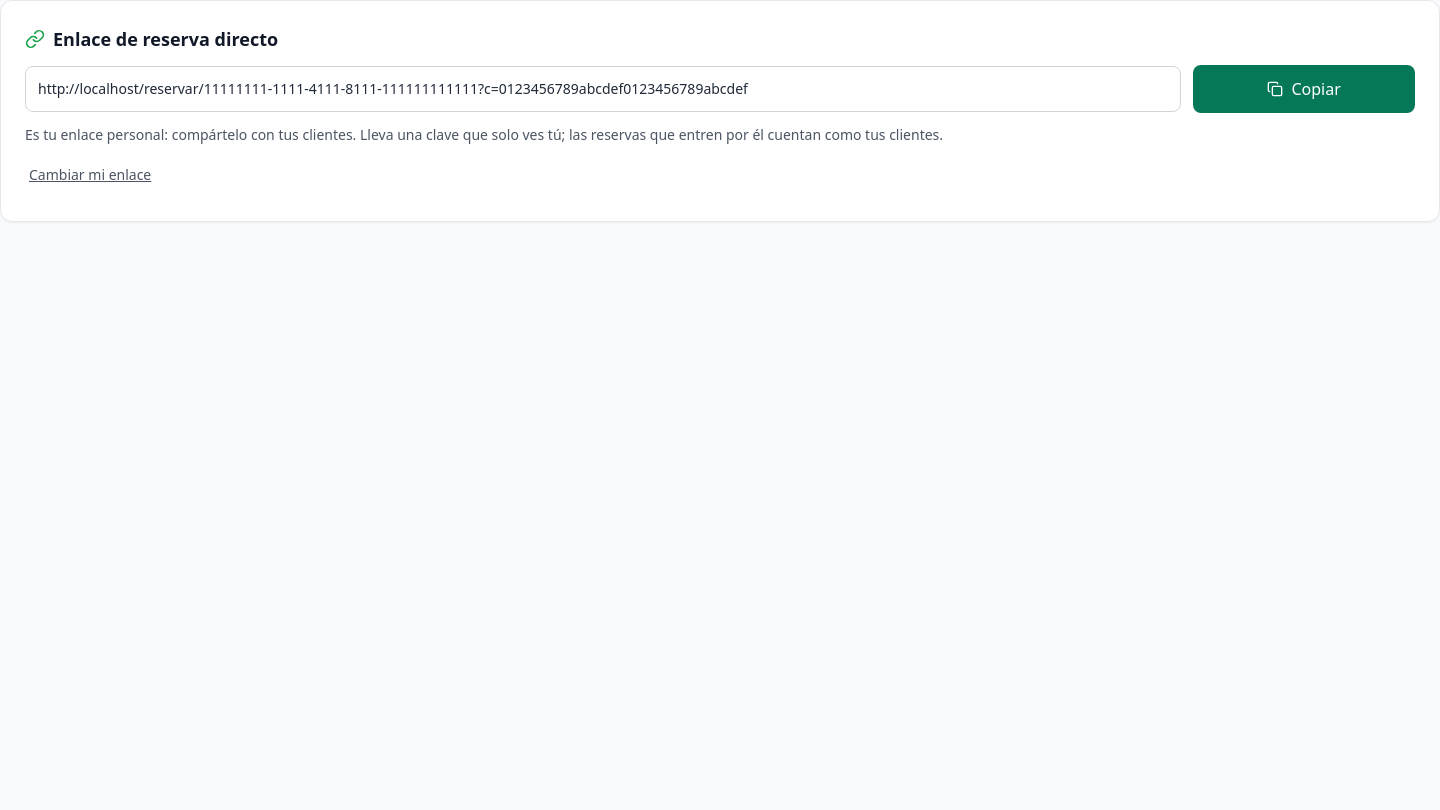
Scenario: BookingLinkCard › cambiar el enlace pide confirmación y deja claro que los anteriores dejan de servir
Later steps or results of the test are not shown.
Check: the field named "Tu enlace de reserva" is shown, box left=25, top=66, right=1181, bottom=112
Click the button "Cambiar mi enlace" at (90, 175), box left=25, top=153, right=155, bottom=197
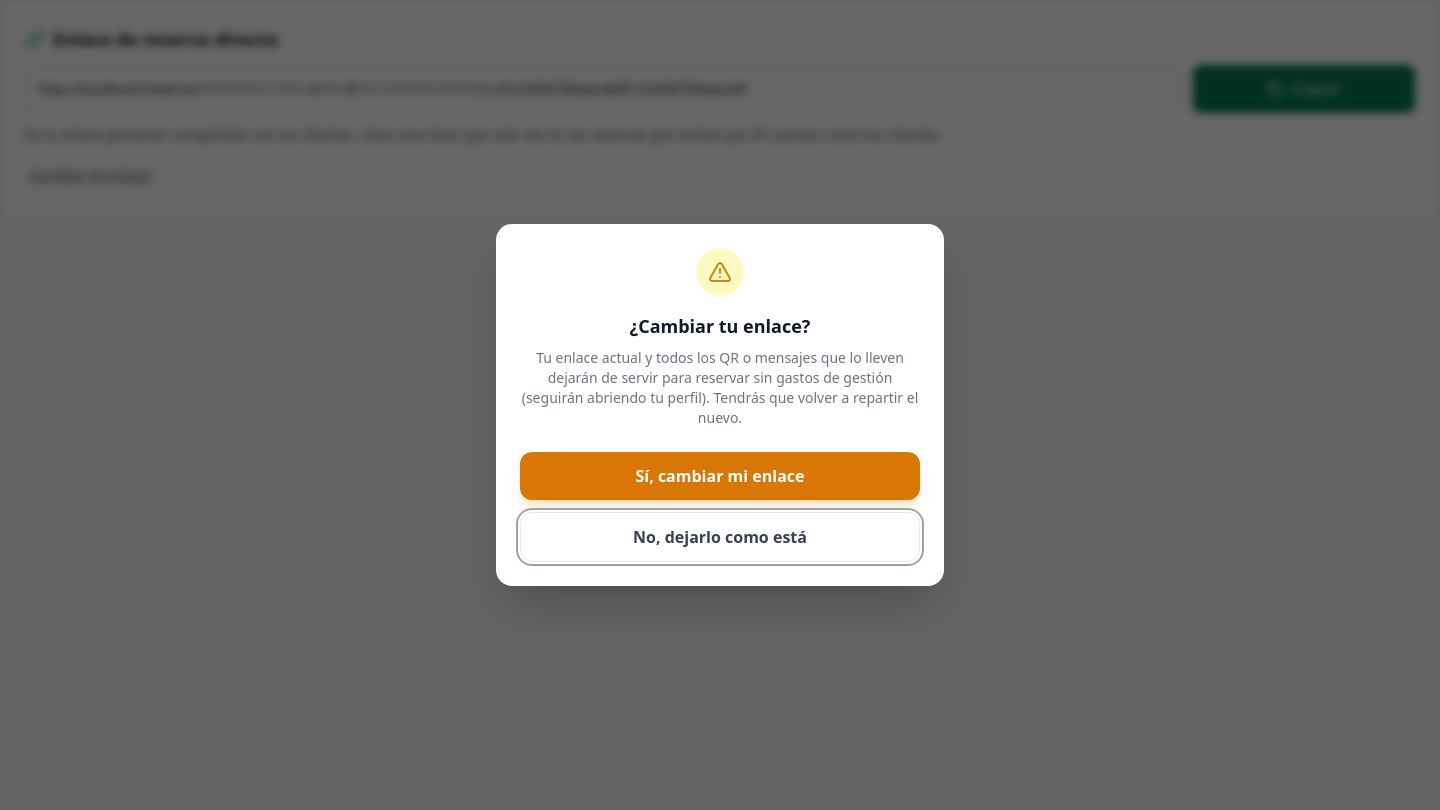
Check: the text "dejarán de servir para reservar sin gastos de gestión" is shown, box left=522, top=348, right=918, bottom=427
